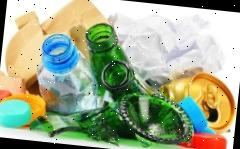glass: (75, 22, 203, 149)
